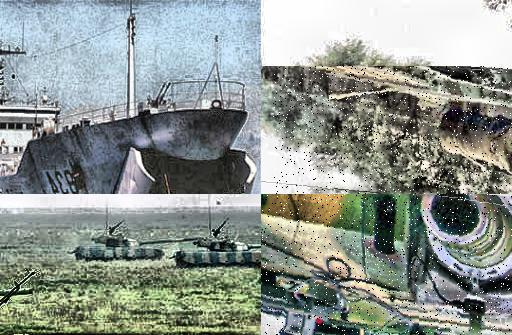tanks: (262, 195, 512, 335), (274, 67, 512, 179), (72, 223, 203, 262), (174, 223, 262, 269), (17, 290, 33, 295), (1, 291, 8, 297)
